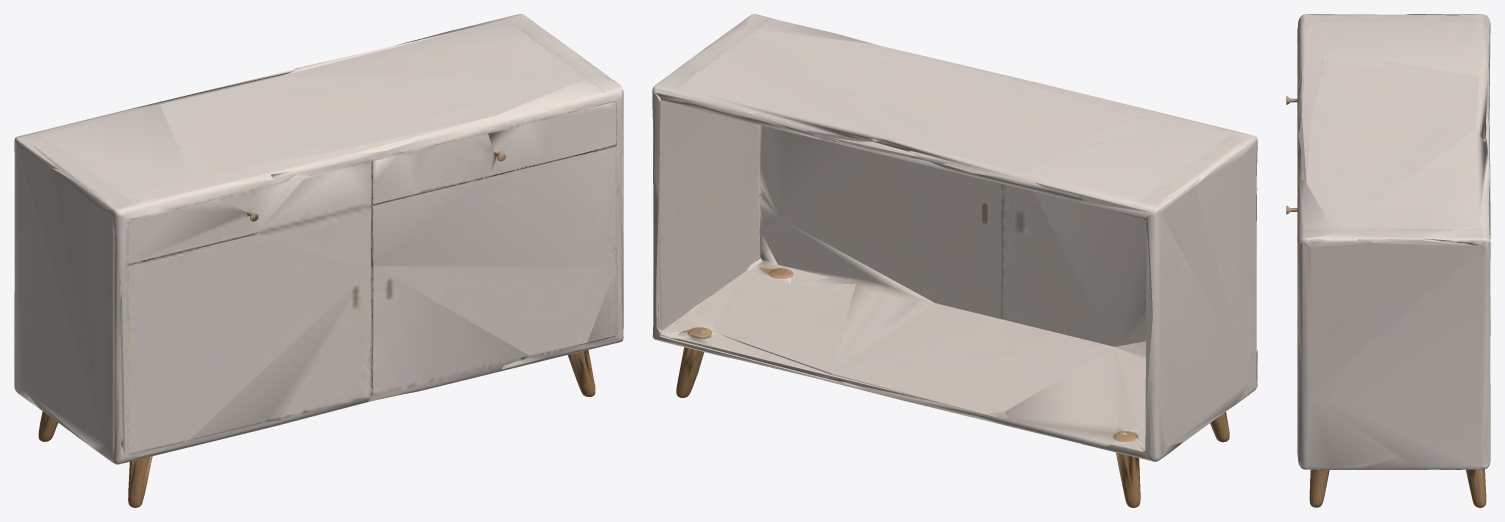
File: wardrobe.glb
3 renders of one model, left to right at view 1: azimuth 30°, elevation 25°; view 2: azimuth 150°, elevation 25°; view 3: azimuth 270°, elevation 25°, orthographic. The views are drawn at different scales.
Parts seen in each view (by area): view 1: output_unwrapped; view 2: output_unwrapped; view 3: output_unwrapped.
Boxes of the visible parts, box(x1,y1,x2,y2) form: output_unwrapped: box(14, 14, 623, 507); output_unwrapped: box(652, 14, 1257, 507); output_unwrapped: box(1286, 14, 1490, 507).
Size of the model in its own units: 1.47 by 0.8501 by 0.5619.
1 material, 1 textured.
